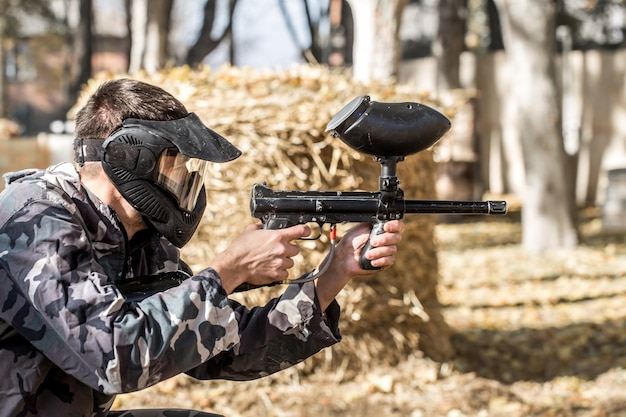gun: (247, 93, 509, 281)
